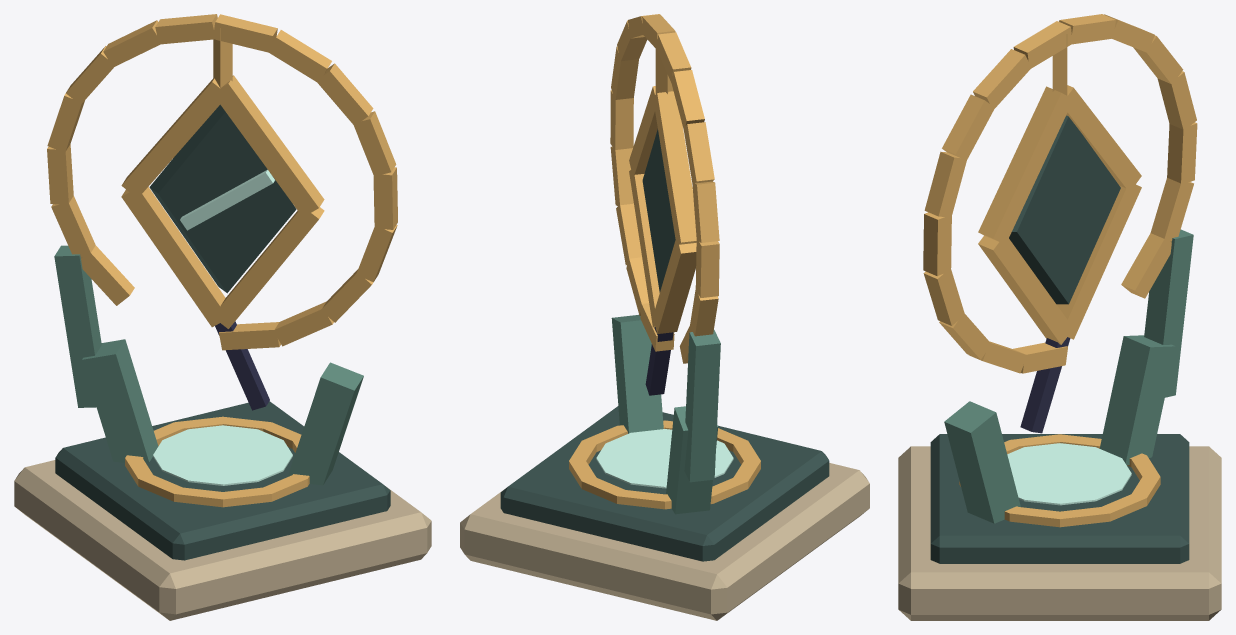
The model's file is Tower_GaleTalismanL1.fbx.
3 renders of one model, left to right at view 1: azimuth 30°, elevation 25°; view 2: azimuth 150°, elevation 25°; view 3: azimuth 270°, elevation 25°, orthographic. The views are drawn at different scales.
Visible parts, largest first — view 1: Tower_GaleTalismanL1; view 2: Tower_GaleTalismanL1; view 3: Tower_GaleTalismanL1.
Part boxes in pixels (left/top/right/bottom): Tower_GaleTalismanL1: left=14, top=14, right=431, bottom=620; Tower_GaleTalismanL1: left=460, top=14, right=869, bottom=620; Tower_GaleTalismanL1: left=898, top=14, right=1221, bottom=620.
Size of the model in its own units: 0.9 by 1.64 by 0.9.
